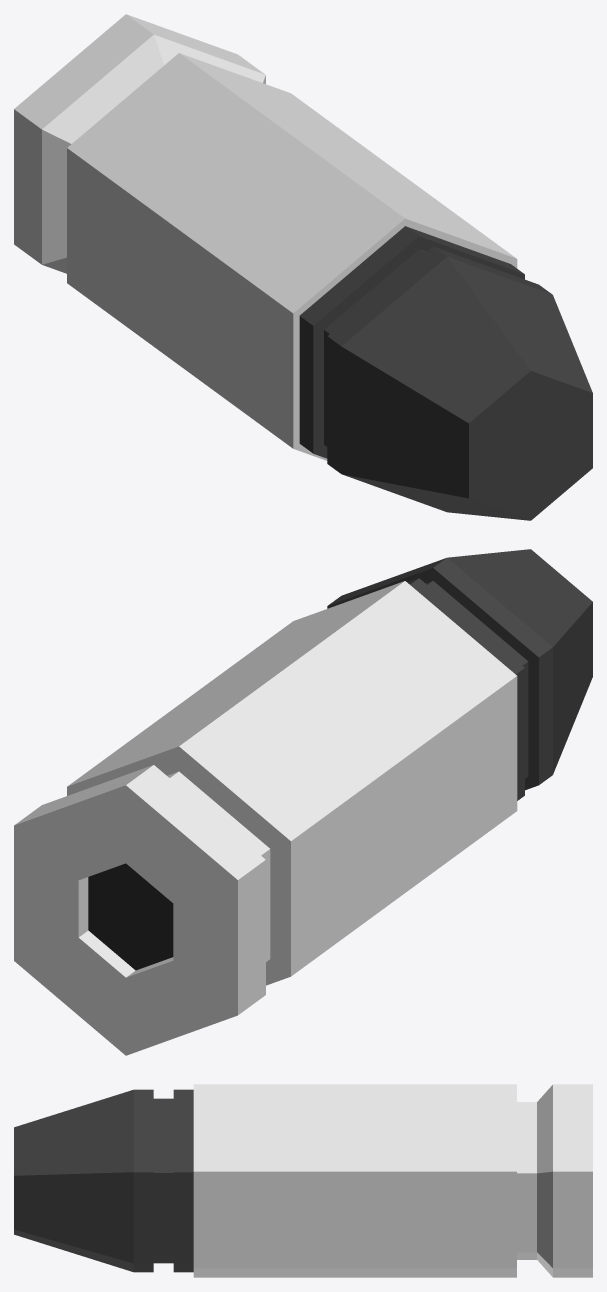
File: Bullet_Pistol_B.fbx
3 renders of one model, top to bottom at view 1: azimuth 30°, elevation 25°; view 2: azimuth 150°, elevation 25°; view 3: azimuth 270°, elevation 25°, orthographic. The views are drawn at different scales.
Parts seen in each view (by area): view 1: Bullet_Pistol_B, Bullet_Pistol_B_Part; view 2: Bullet_Pistol_B, Bullet_Pistol_B_Part; view 3: Bullet_Pistol_B, Bullet_Pistol_B_Part.
Boxes of the visible parts, box(x1,y1,x2,y2) form: Bullet_Pistol_B: box(14, 14, 517, 460); Bullet_Pistol_B_Part: box(299, 226, 592, 520); Bullet_Pistol_B: box(14, 581, 517, 1055); Bullet_Pistol_B_Part: box(327, 549, 592, 800); Bullet_Pistol_B: box(193, 1084, 592, 1277); Bullet_Pistol_B_Part: box(14, 1089, 193, 1272).
Size of the model in its own units: 0.0116 by 0.0134 by 0.0363.
